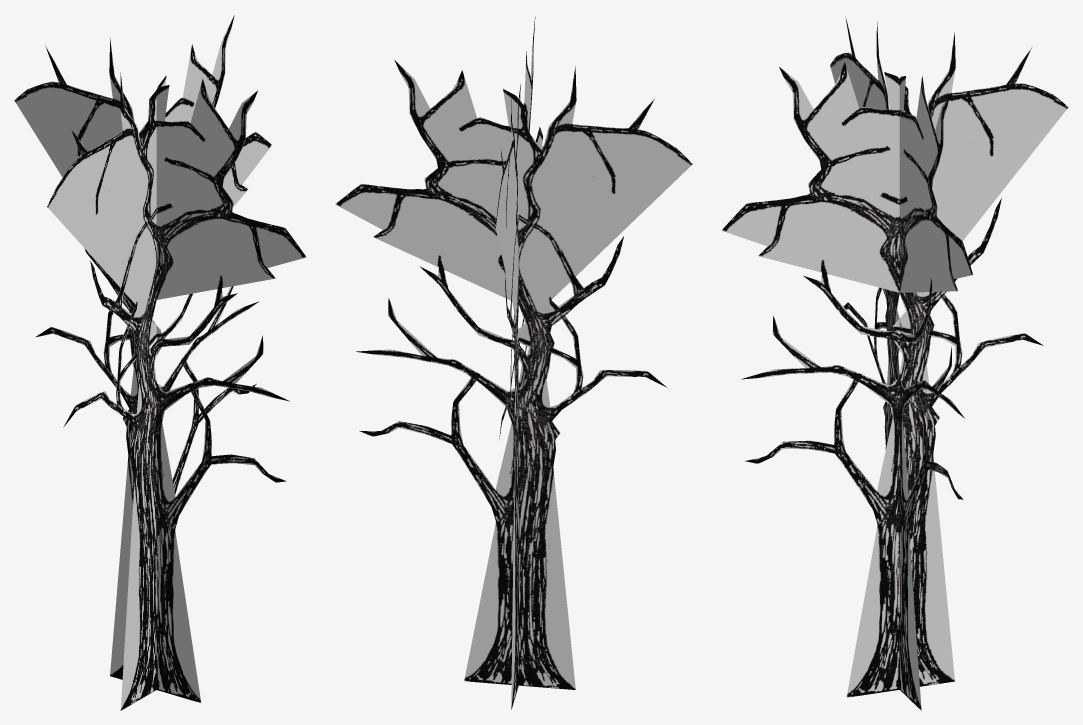
Rendered from tree2.obj.
The picture shows the model from 3 angles, left to right: view 1: azimuth 30°, elevation 25°; view 2: azimuth 150°, elevation 25°; view 3: azimuth 270°, elevation 25°; orthographic projection. The views are drawn at different scales.
Visible parts, largest first — view 1: Plane.016; view 2: Plane.016; view 3: Plane.016.
Part boxes in pixels (x1,y1,x2,y2): Plane.016: (14,15,306,710); Plane.016: (335,17,692,709); Plane.016: (721,16,1068,710).
Size of the model in its own units: 2.88 by 5.94 by 2.88.
